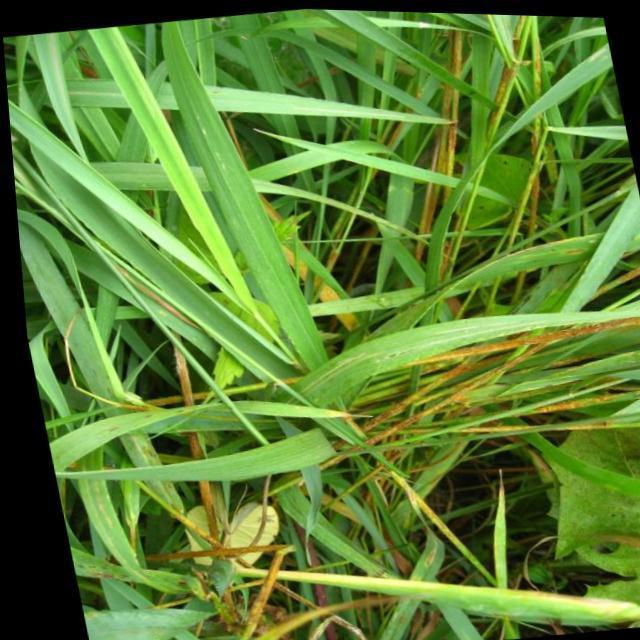Stem_Rust: (508, 310, 639, 342), (424, 328, 524, 365)
